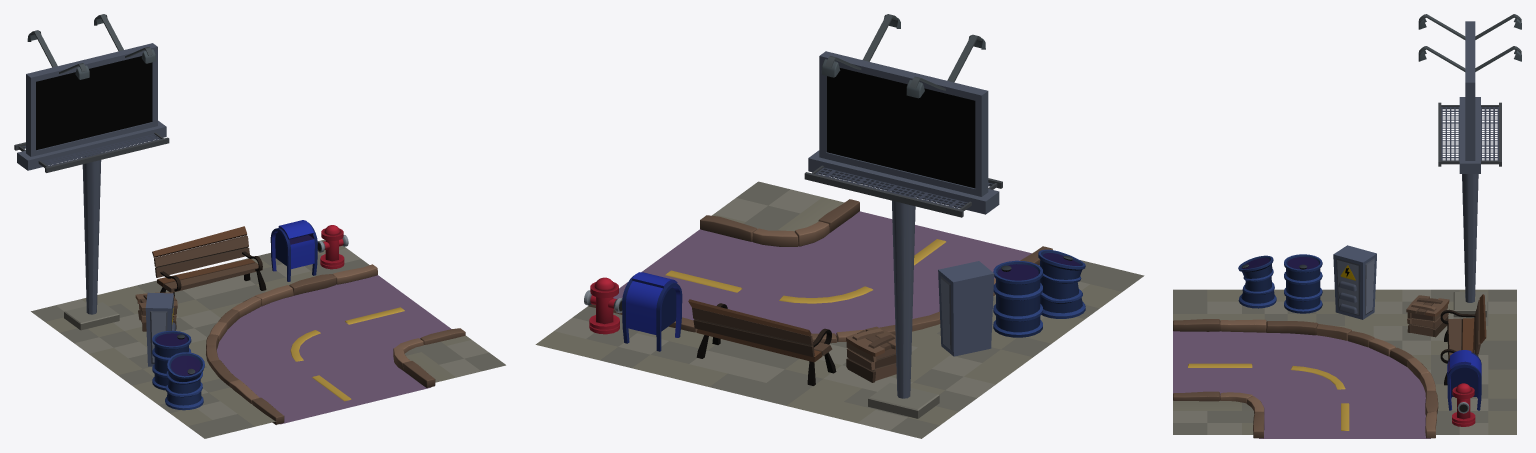
Rendered from Mod_MiscProps.fbx.
3 renders of one model, left to right at view 1: azimuth 30°, elevation 25°; view 2: azimuth 150°, elevation 25°; view 3: azimuth 270°, elevation 25°, orthographic. The views are drawn at different scales.
Parts seen in each view (by area): view 1: MiscProps_mesh; view 2: MiscProps_mesh; view 3: MiscProps_mesh.
Boxes of the visible parts, box(x1,y1,x2,y2) form: MiscProps_mesh: box(14, 14, 505, 438); MiscProps_mesh: box(535, 14, 1144, 438); MiscProps_mesh: box(1173, 14, 1521, 438).
Size of the model in its own units: 8.84 by 7.2 by 8.11.
